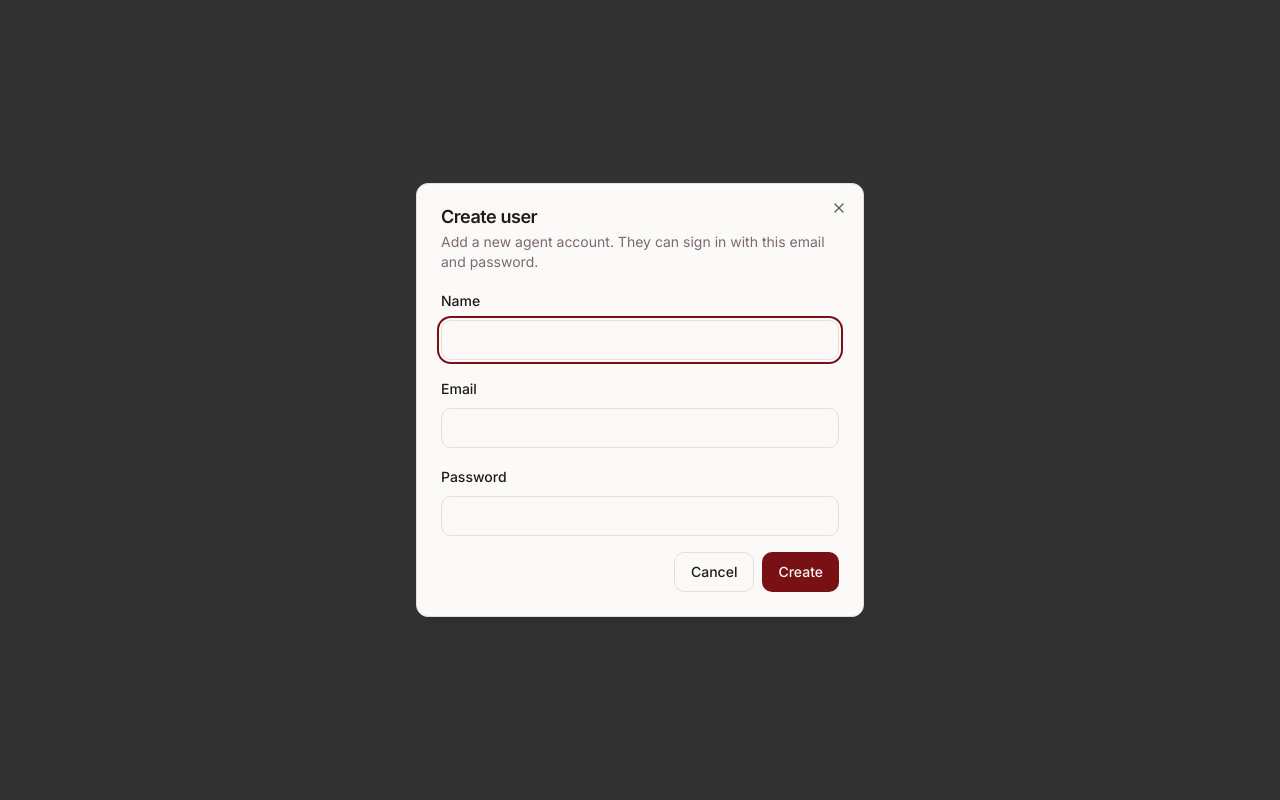
it: CreateUserDialog › shows Zod validation error when email is invalid
In the field labelled "Name": coordinates (640, 340) [441, 320, 839, 360], type "Valid Name"
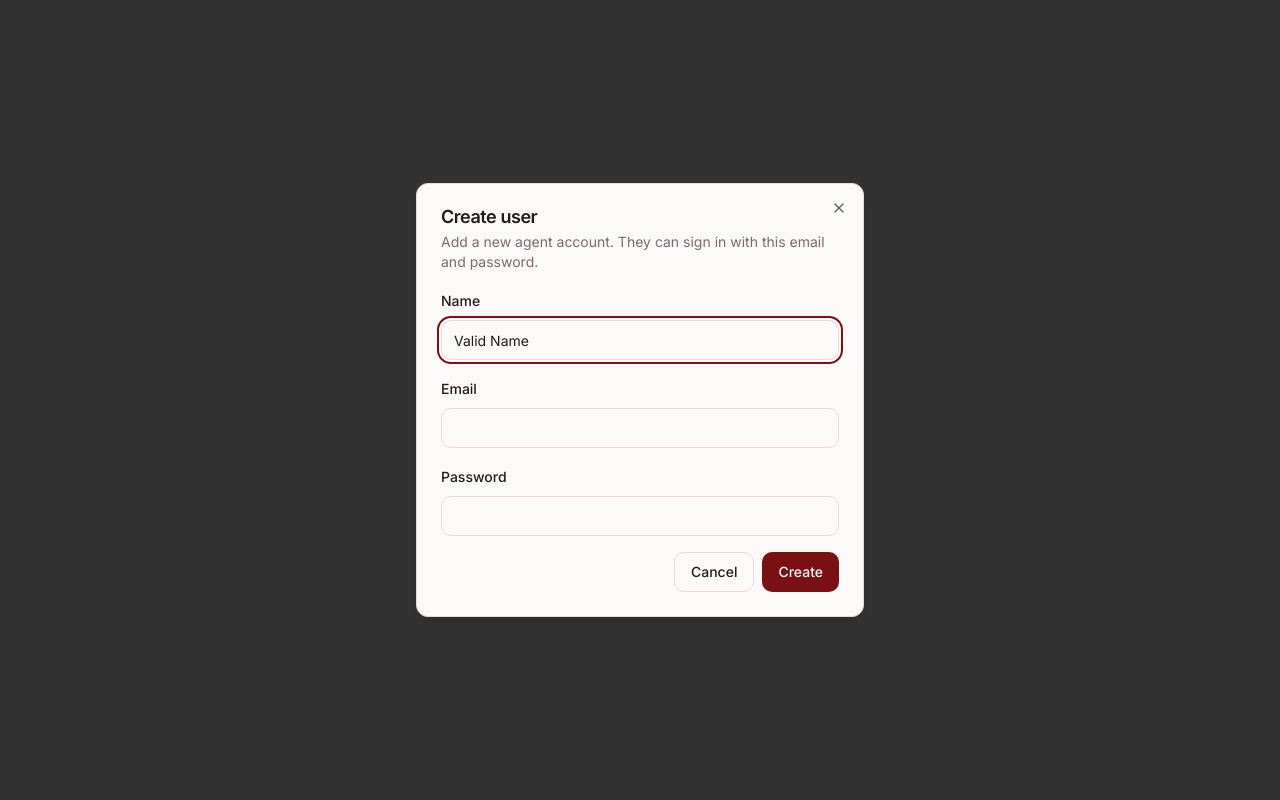
In the field labelled "Email": coordinates (640, 428) [441, 408, 839, 448], type "not-a-valid-email"
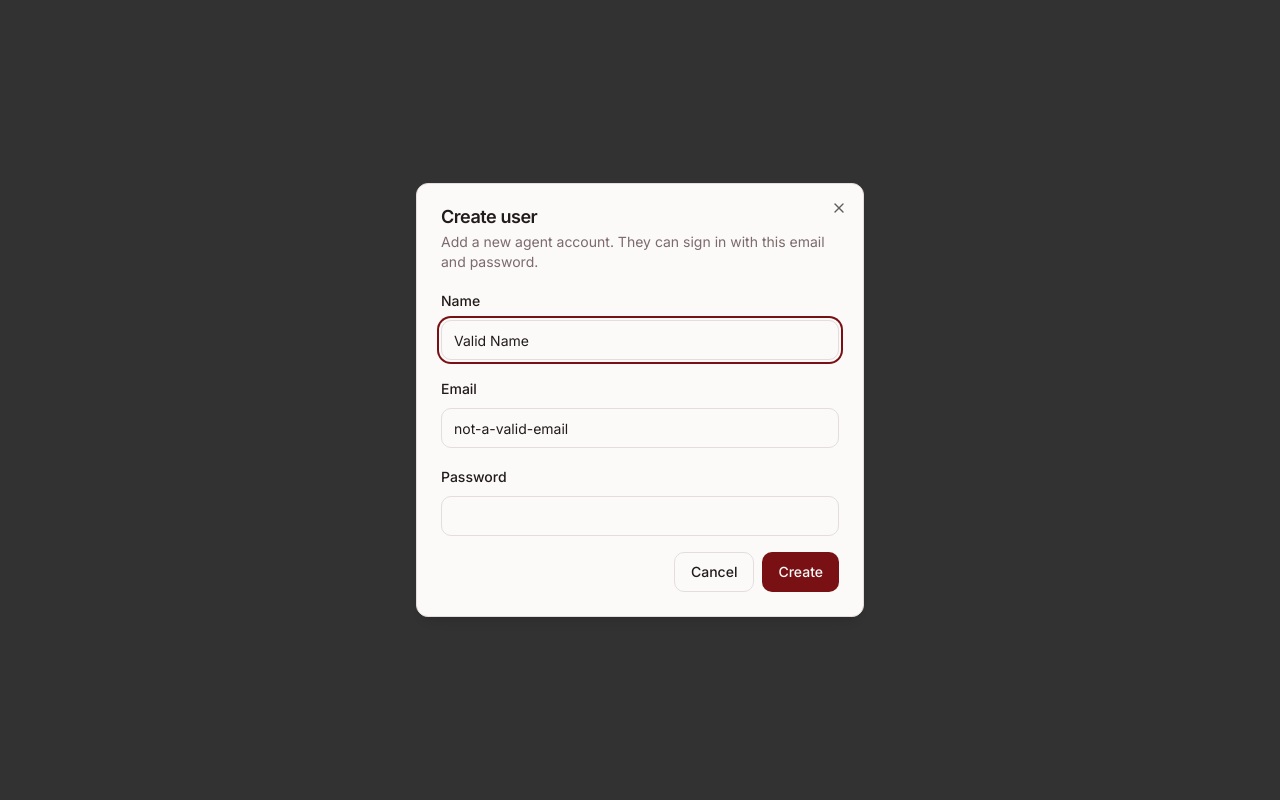
In the password field labelled "Password": coordinates (640, 516) [441, 496, 839, 536], type "password1"
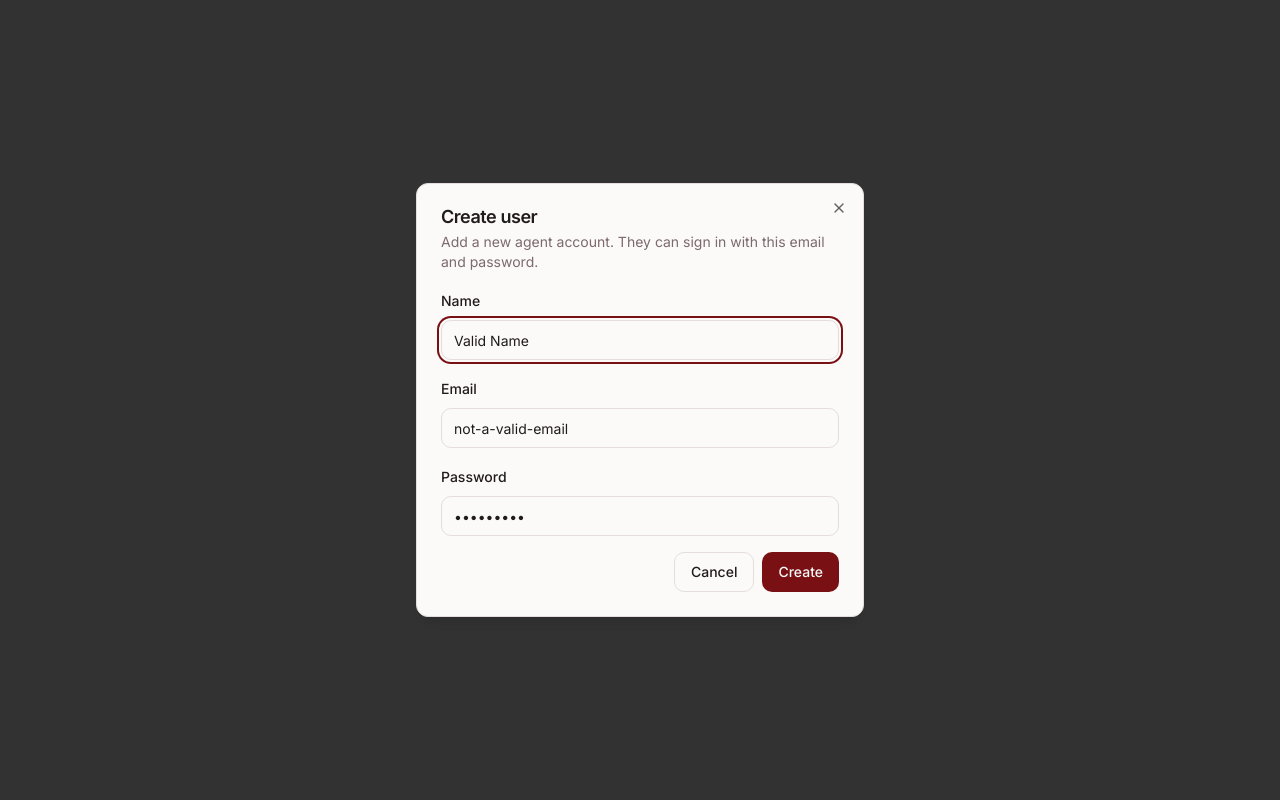
Click the button "Create": coordinates (801, 572) [762, 552, 839, 592]
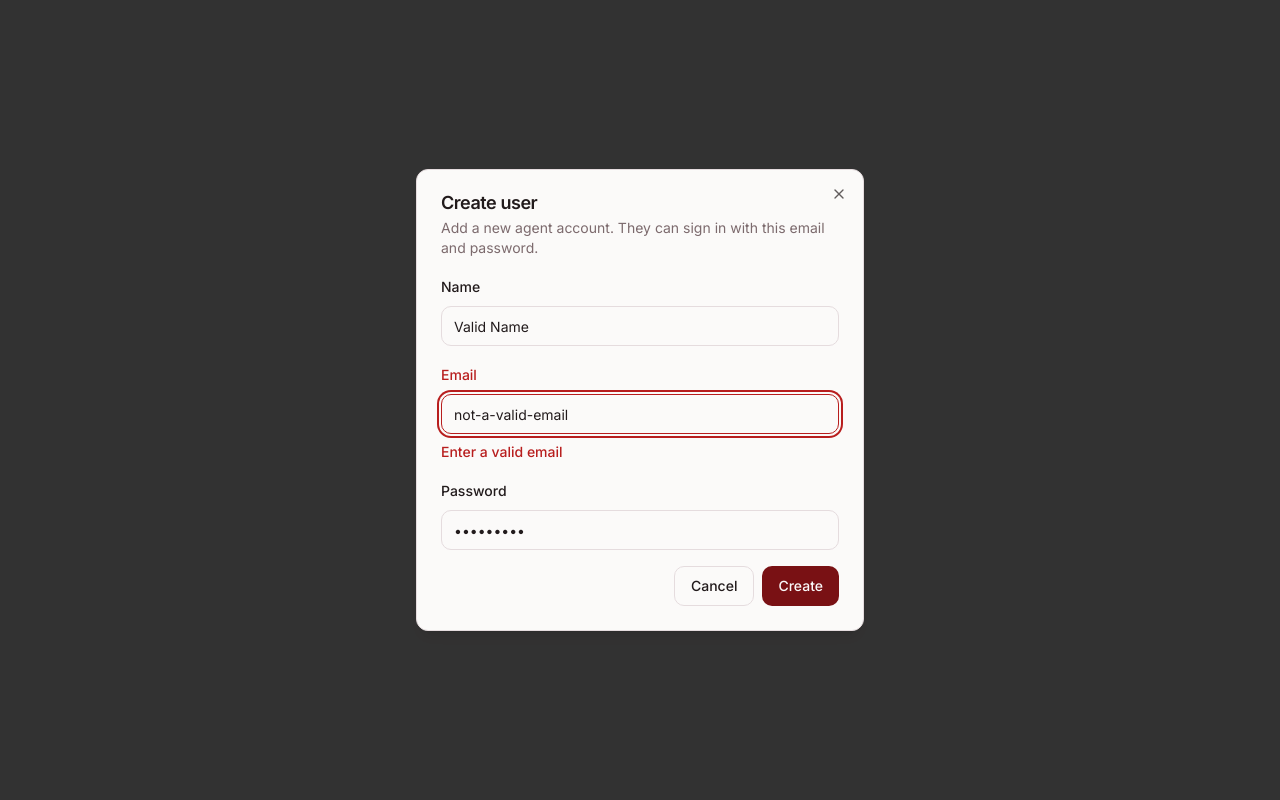
Expected: the text "Enter a valid email" is shown, [441, 443, 563, 460]
